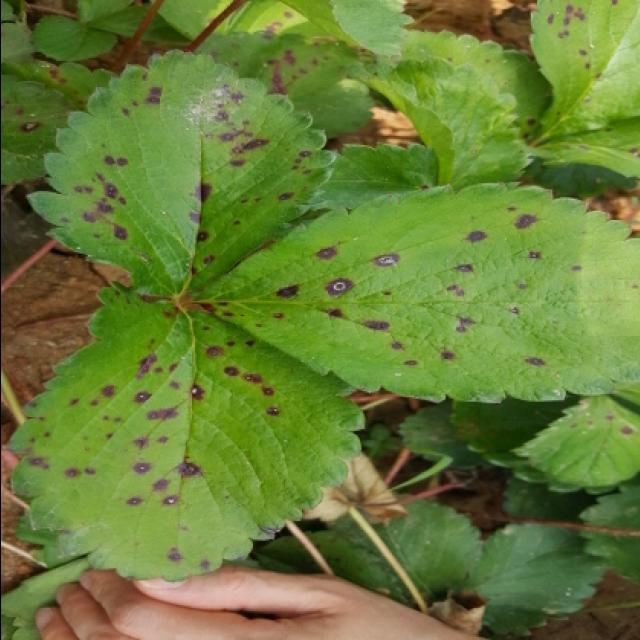Leaf Spot: (2, 280, 365, 583), (184, 180, 640, 405), (22, 49, 334, 300), (194, 2, 375, 140), (526, 2, 640, 162), (399, 27, 550, 141), (505, 394, 640, 487), (2, 72, 67, 189), (2, 53, 112, 112)
